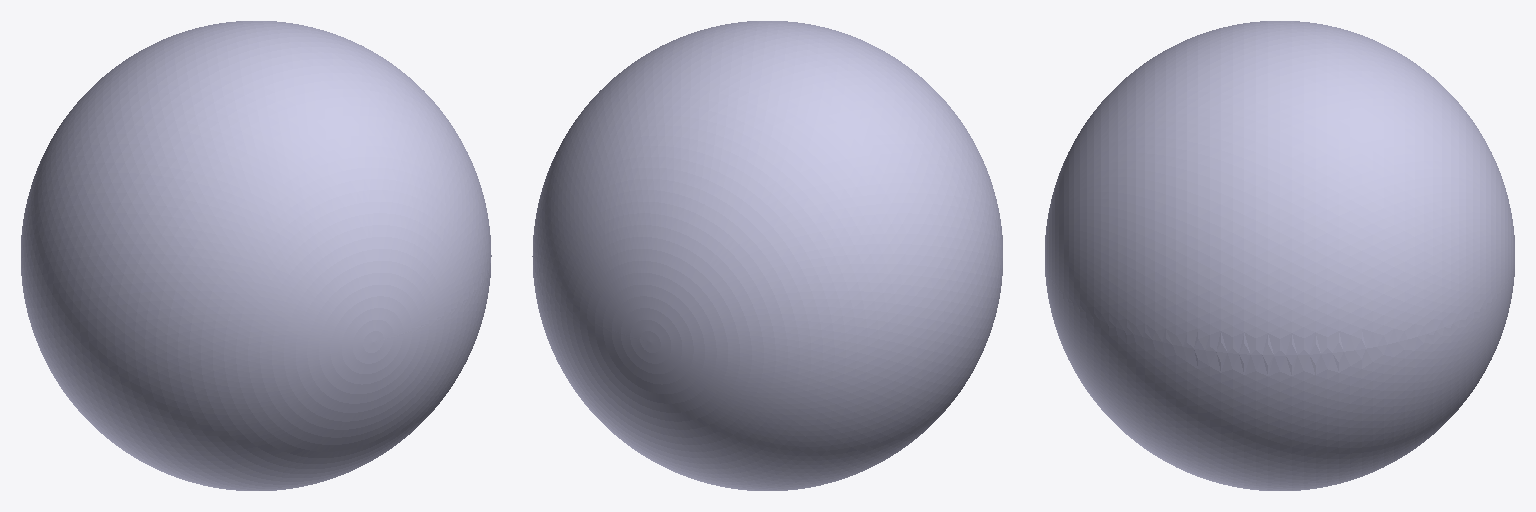
The model's file is easier_slam_test_moved_negative.obj.
3 views of the same model, side by side, from view 1: azimuth 30°, elevation 25°; view 2: azimuth 150°, elevation 25°; view 3: azimuth 270°, elevation 25° (orthographic).
Visible parts, largest first — view 1: Cut; view 2: Cut; view 3: Cut.
Boxes of the visible parts, <box> form: Cut: <box>21,21,491,490</box>; Cut: <box>532,21,1002,490</box>; Cut: <box>1045,21,1514,490</box>.
Bounding box in the file's own units: 300 × 300 × 300.